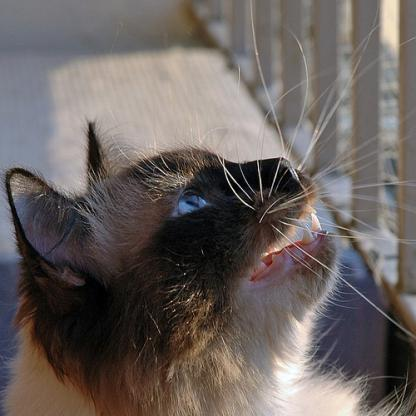cat: (0, 113, 415, 414)
